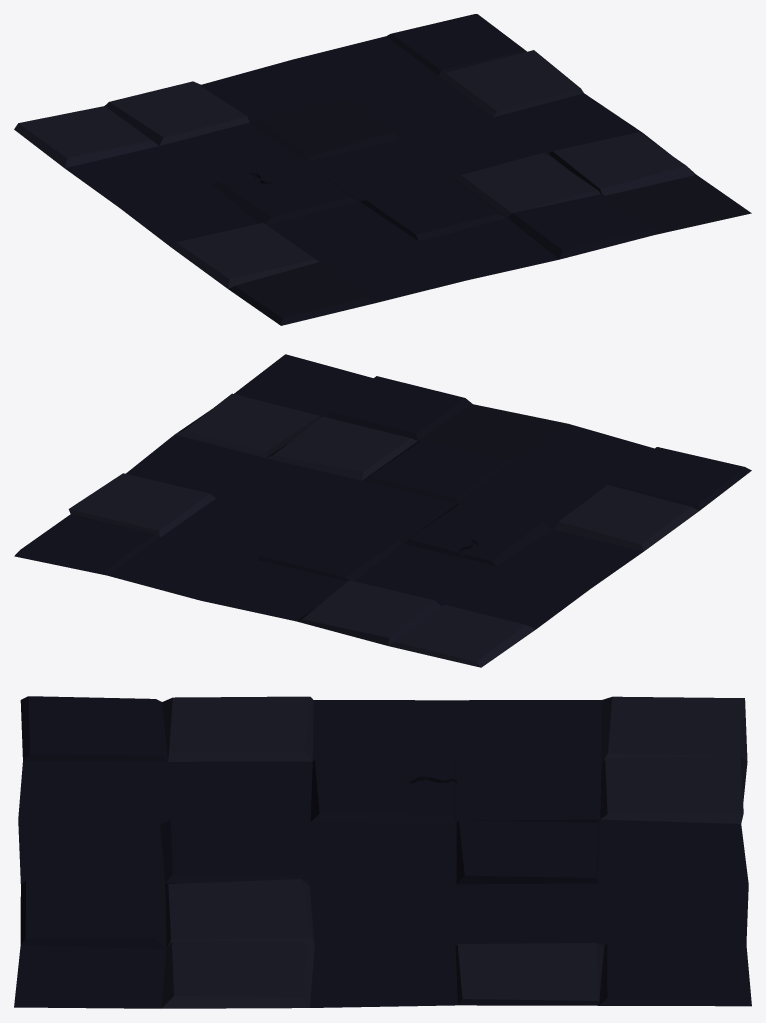
Rendered from floor 2.glb.
3 renders of one model, top to bottom at view 1: azimuth 30°, elevation 25°; view 2: azimuth 150°, elevation 25°; view 3: azimuth 270°, elevation 25°, orthographic. The views are drawn at different scales.
Visible parts, largest first — view 1: floor 2; view 2: floor 2; view 3: floor 2.
Part boxes in pixels (x1,y1,x2,y2): floor 2: [14, 14, 751, 325]; floor 2: [14, 354, 751, 667]; floor 2: [14, 696, 751, 1008].
Bounding box in the file's own units: 4.02 × 0.0705 × 4.06.
Materials: 1 (1 with a texture image).
